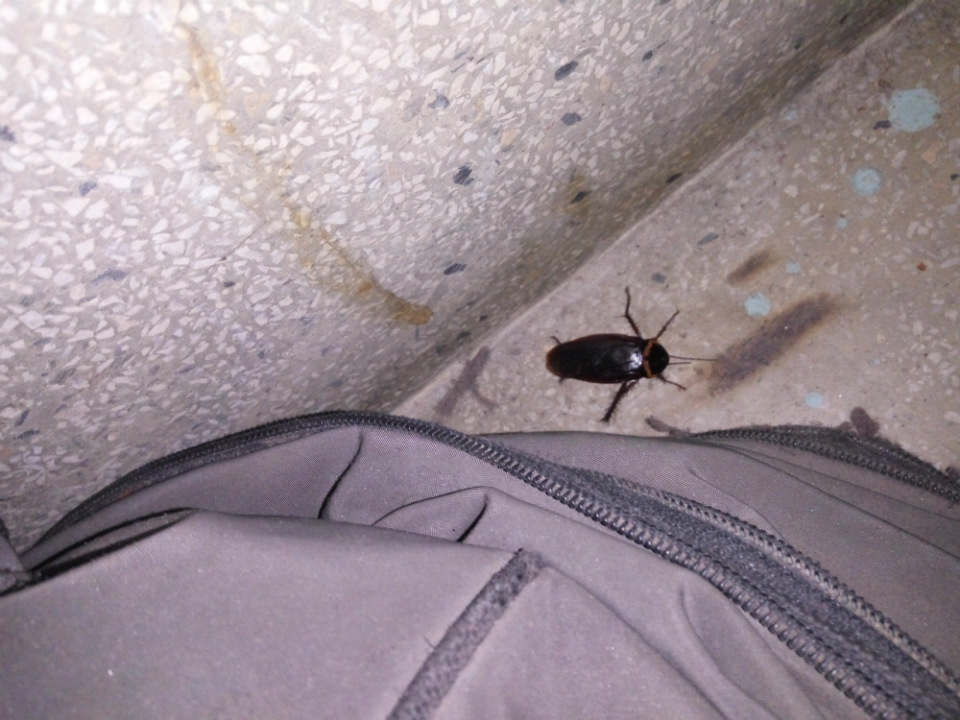cockroach: (443, 277, 734, 411)
